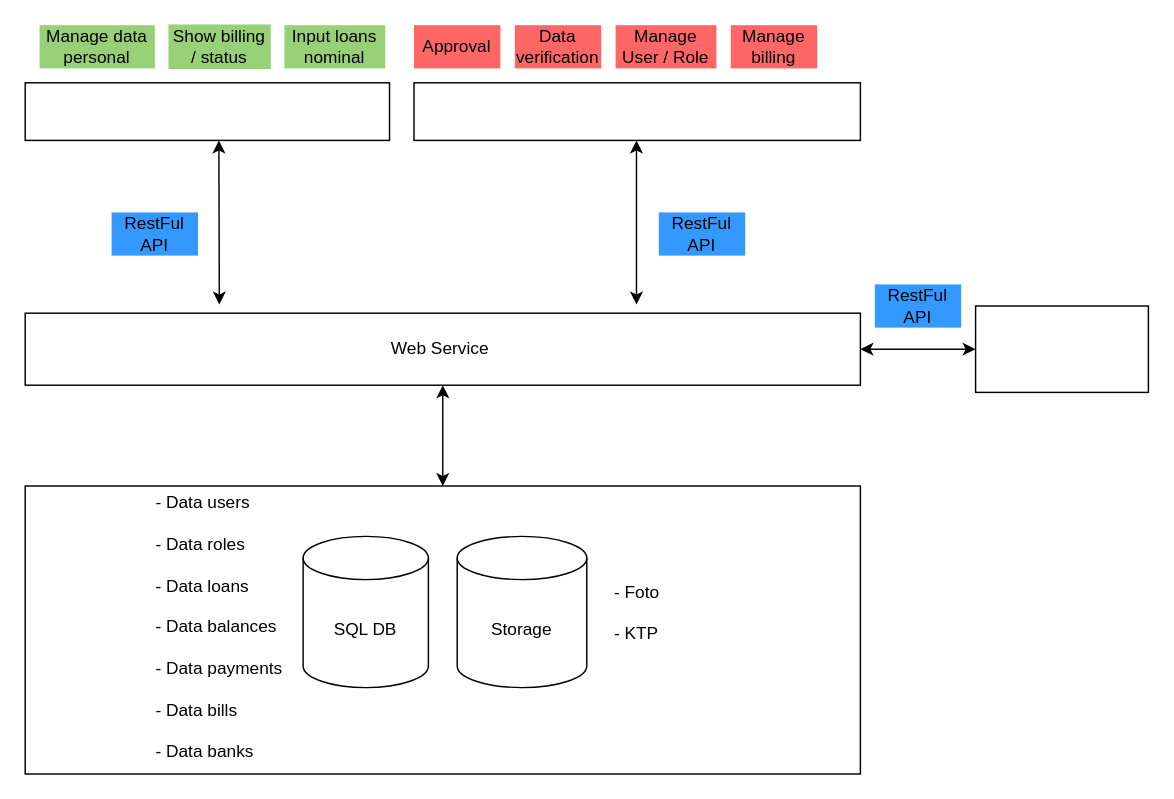
Image size: 1174x799. Some labels were removed from this diagram. Here are the shapes that lost their labels. From the top down, the centre of each, then its label:
(x=207, y=110): Mobile Application IOS / Android
(x=636, y=110): Web Application
(x=1061, y=348): Payment Gateway
